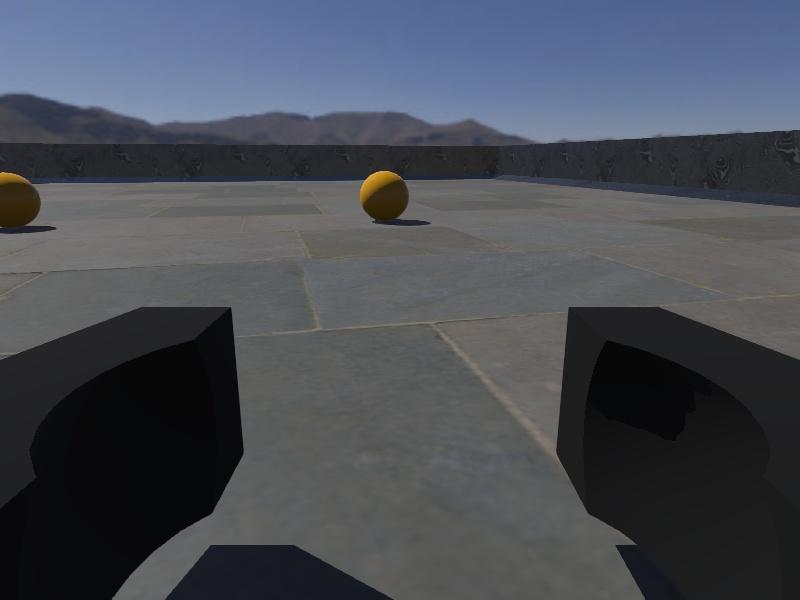orange ball: (358, 169, 411, 223)
